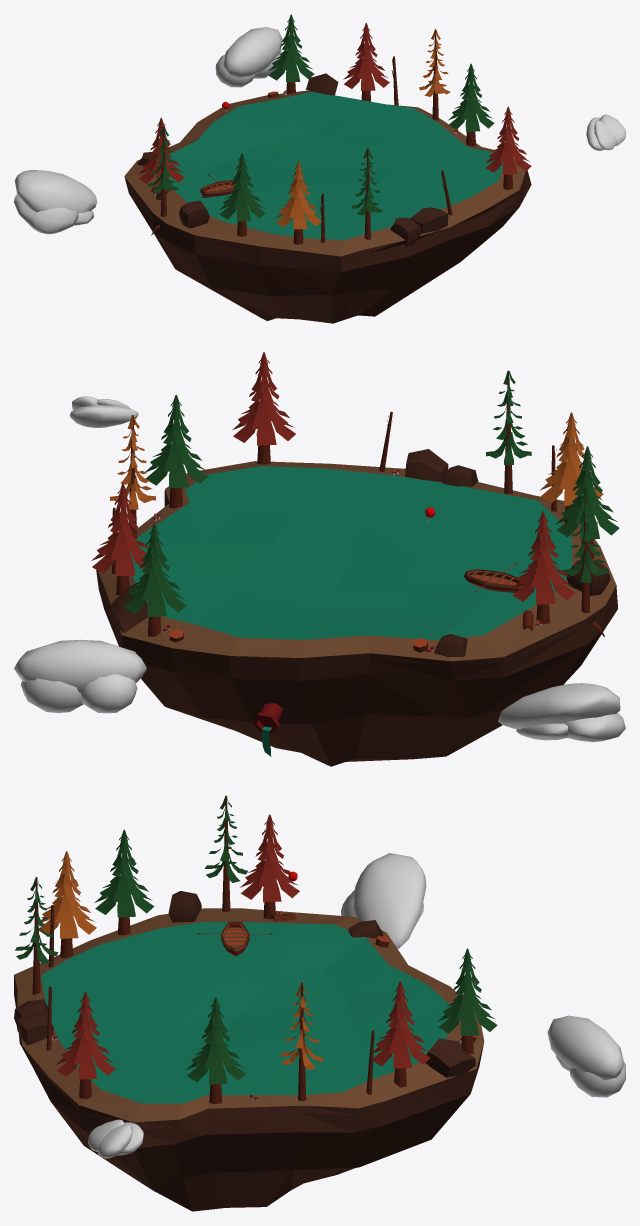
3 views of the same model, one above another, from view 1: azimuth 30°, elevation 25°; view 2: azimuth 150°, elevation 25°; view 3: azimuth 270°, elevation 25° (orthographic). The views are drawn at different scales.
Parts seen in each view (by area): view 1: Island_01, Cloud01, Cloud02, Tree_Dense_Yellow, Tree_Dense_01, Tree_Dense_Red_002, Tree_Dense_002, Tree_Dense_003, Tree_Dense_Red_01, Cloud03, Tree_Dense_Red_003, Tree_Pine_004 (+7 smaller); view 2: Island_01, Cloud02, Cloud01, Tree_Dense_002, Tree_Dense_Red_002, Tree_Dense_003, Tree_Dense_Red_003, Tree_Dense_Red_01, Tree_Dense_01, Tree_Dense_Yellow, Tree_Pine_003, Cloud03 (+9 smaller); view 3: Island_01, Cloud01, Cloud02, Tree_Dense_Red_002, Tree_Dense_002, Tree_Dense_01, Tree_Dense_Red_01, Tree_Dense_003, Tree_Dense_Red_003, Tree_Dense_Yellow, Cloud03, Tree_Pine_004 (+6 smaller).
Part boxes in pixels (x1,y1,x2,y2): Island_01: (124, 90, 531, 323); Cloud01: (14, 170, 97, 234); Cloud02: (215, 27, 282, 87); Tree_Dense_Yellow: (276, 161, 321, 244); Tree_Dense_01: (219, 153, 265, 236); Tree_Dense_Red_002: (485, 106, 531, 189); Tree_Dense_002: (448, 63, 494, 146); Tree_Dense_003: (268, 14, 314, 93); Tree_Dense_Red_01: (343, 23, 389, 101); Cloud03: (586, 114, 625, 150); Tree_Dense_Red_003: (138, 117, 184, 199); Tree_Pine_004: (419, 29, 450, 120); Island_01: (96, 461, 617, 766); Cloud02: (14, 639, 146, 713); Cloud01: (498, 683, 625, 742); Tree_Dense_002: (145, 395, 208, 508); Tree_Dense_Red_002: (232, 352, 295, 464); Tree_Dense_003: (123, 523, 186, 636); Tree_Dense_Red_003: (512, 511, 574, 624); Tree_Dense_Red_01: (91, 483, 148, 595); Tree_Dense_01: (556, 446, 619, 559); Tree_Dense_Yellow: (539, 412, 603, 522); Tree_Pine_003: (563, 488, 608, 613); Cloud03: (70, 396, 138, 427); Island_01: (14, 908, 484, 1211); Cloud01: (340, 853, 426, 948); Cloud02: (547, 1015, 625, 1097); Tree_Dense_Red_002: (56, 992, 115, 1099); Tree_Dense_002: (186, 997, 245, 1104); Tree_Dense_01: (94, 829, 154, 935); Tree_Dense_Red_01: (373, 981, 430, 1087); Tree_Dense_003: (438, 948, 497, 1053); Tree_Dense_Red_003: (240, 814, 299, 918); Tree_Dense_Yellow: (39, 851, 96, 957); Cloud03: (88, 1119, 143, 1158); Tree_Pine_004: (280, 982, 323, 1101).
Bounding box in the file's own units: 712 × 306 × 584.
